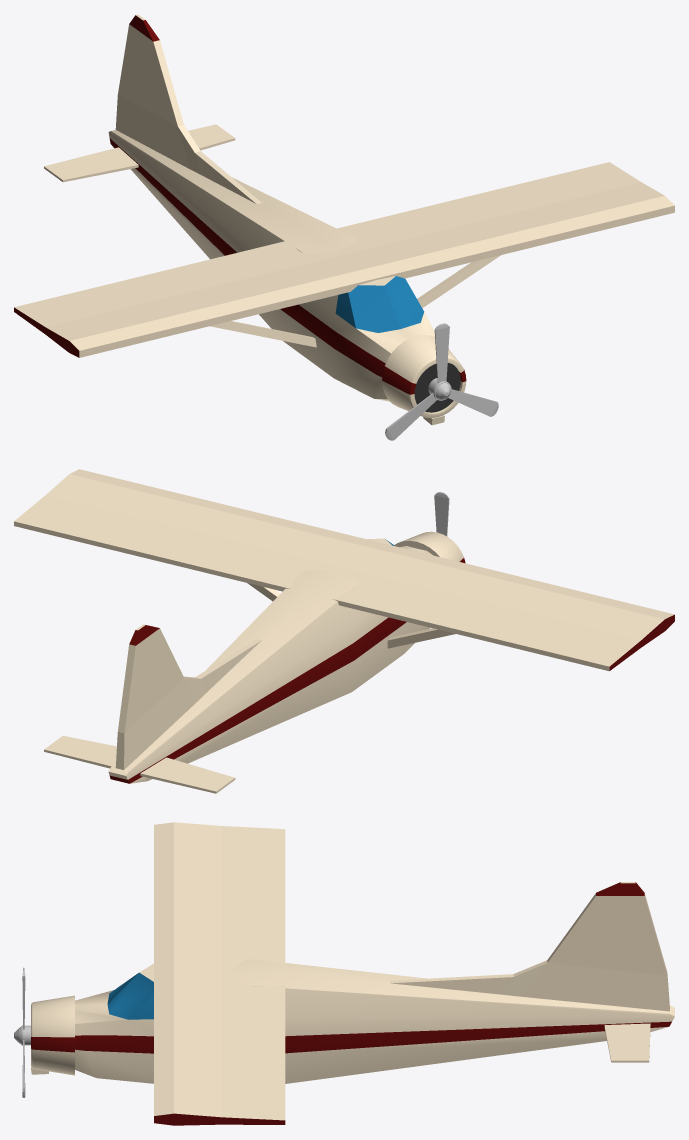
The model's file is rust_plane.fbx.
3 views of the same model, one above another, from view 1: azimuth 30°, elevation 25°; view 2: azimuth 150°, elevation 25°; view 3: azimuth 270°, elevation 25° (orthographic).
Parts seen in each view (by area): view 1: Plane.002, propeller.002; view 2: Plane.002, propeller.002; view 3: Plane.002.
Part boxes in pixels (box(x1,y1,x2,y2)): Plane.002: box(14, 14, 674, 425); propeller.002: box(385, 323, 498, 440); Plane.002: box(14, 469, 674, 793); propeller.002: box(434, 492, 449, 536); Plane.002: box(14, 822, 674, 1125).
Bounding box in the file's own units: 314 × 95.88 × 301.
